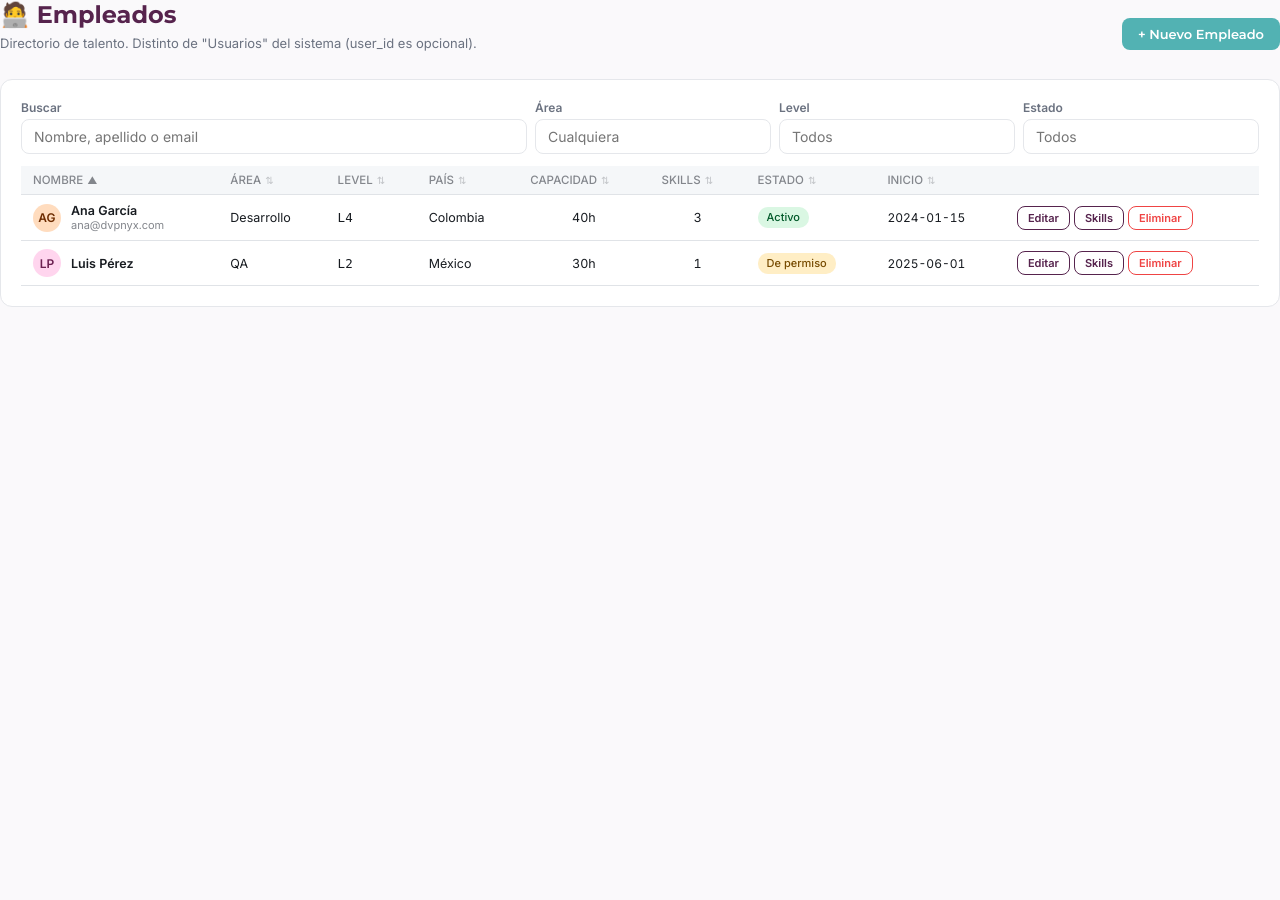
Employees module › validation error when required fields missing
Expected: the link "Ana García" is shown, x1=71 y1=203 x2=137 y2=218
Click the button "+ Nuevo Empleado" at (1201, 34), box x1=1122 y1=18 x2=1279 y2=50
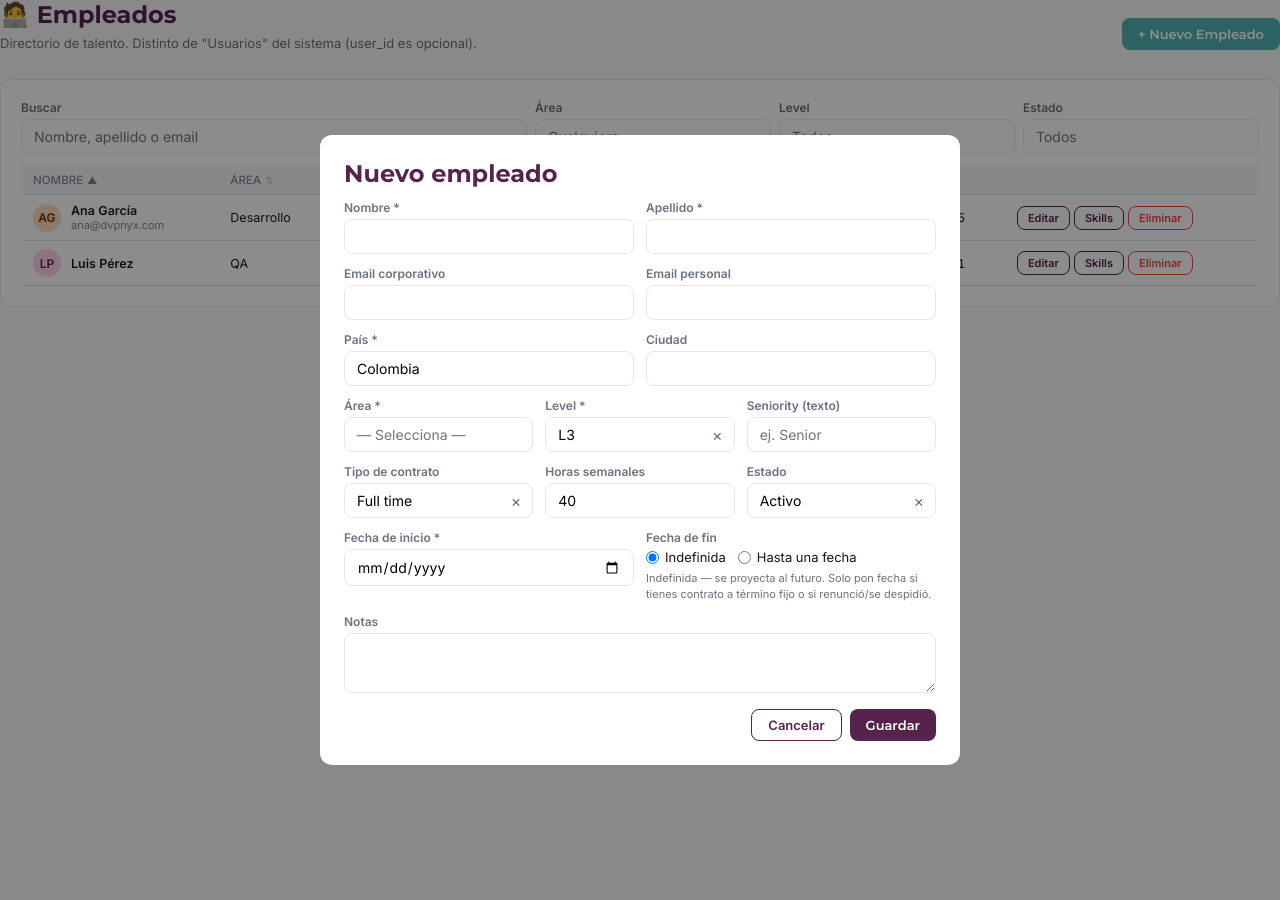
Submit the form named "Guardar", box x1=344 y1=159 x2=936 y2=741
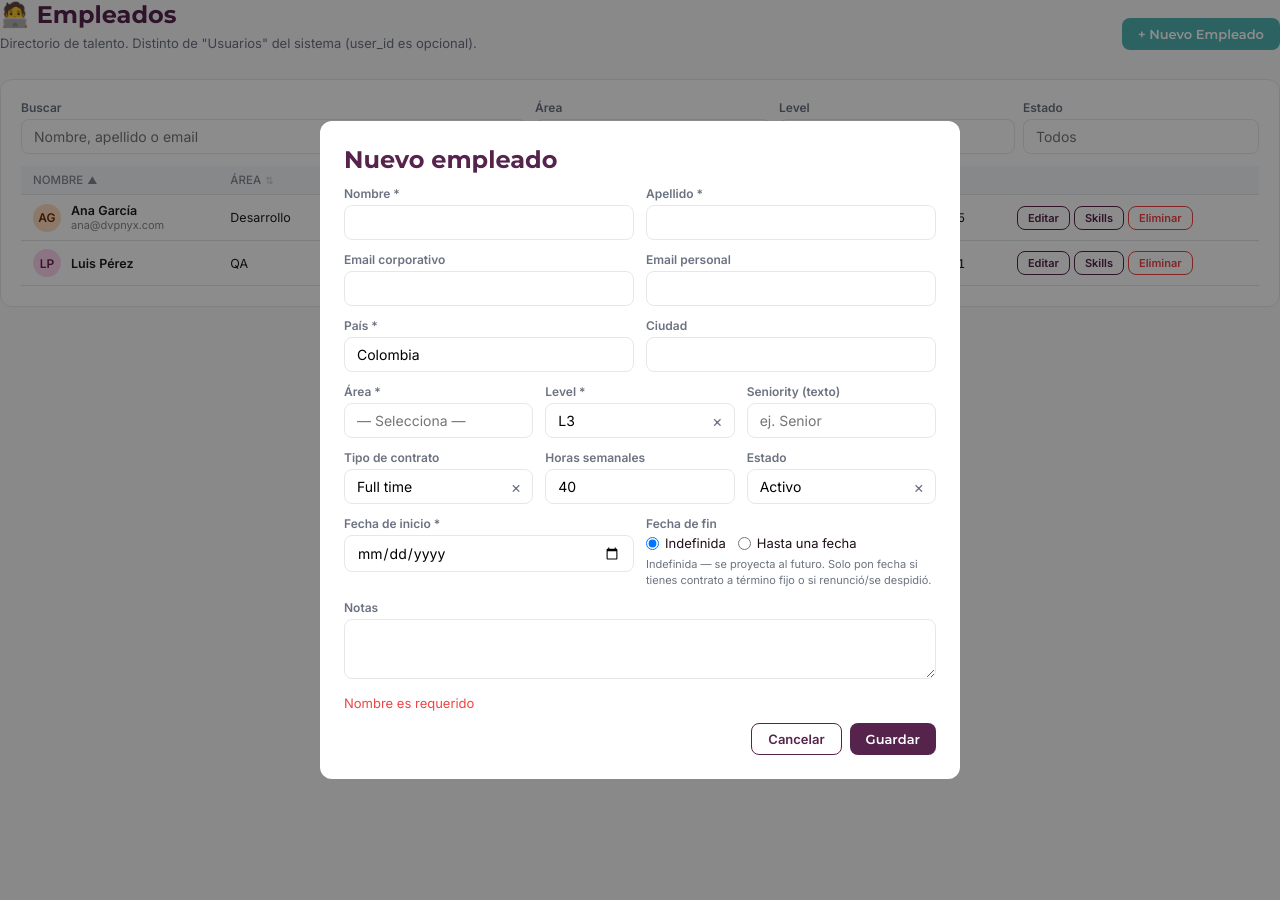
Expected: the text "Nombre es requerido" is shown, x1=344 y1=695 x2=474 y2=711
